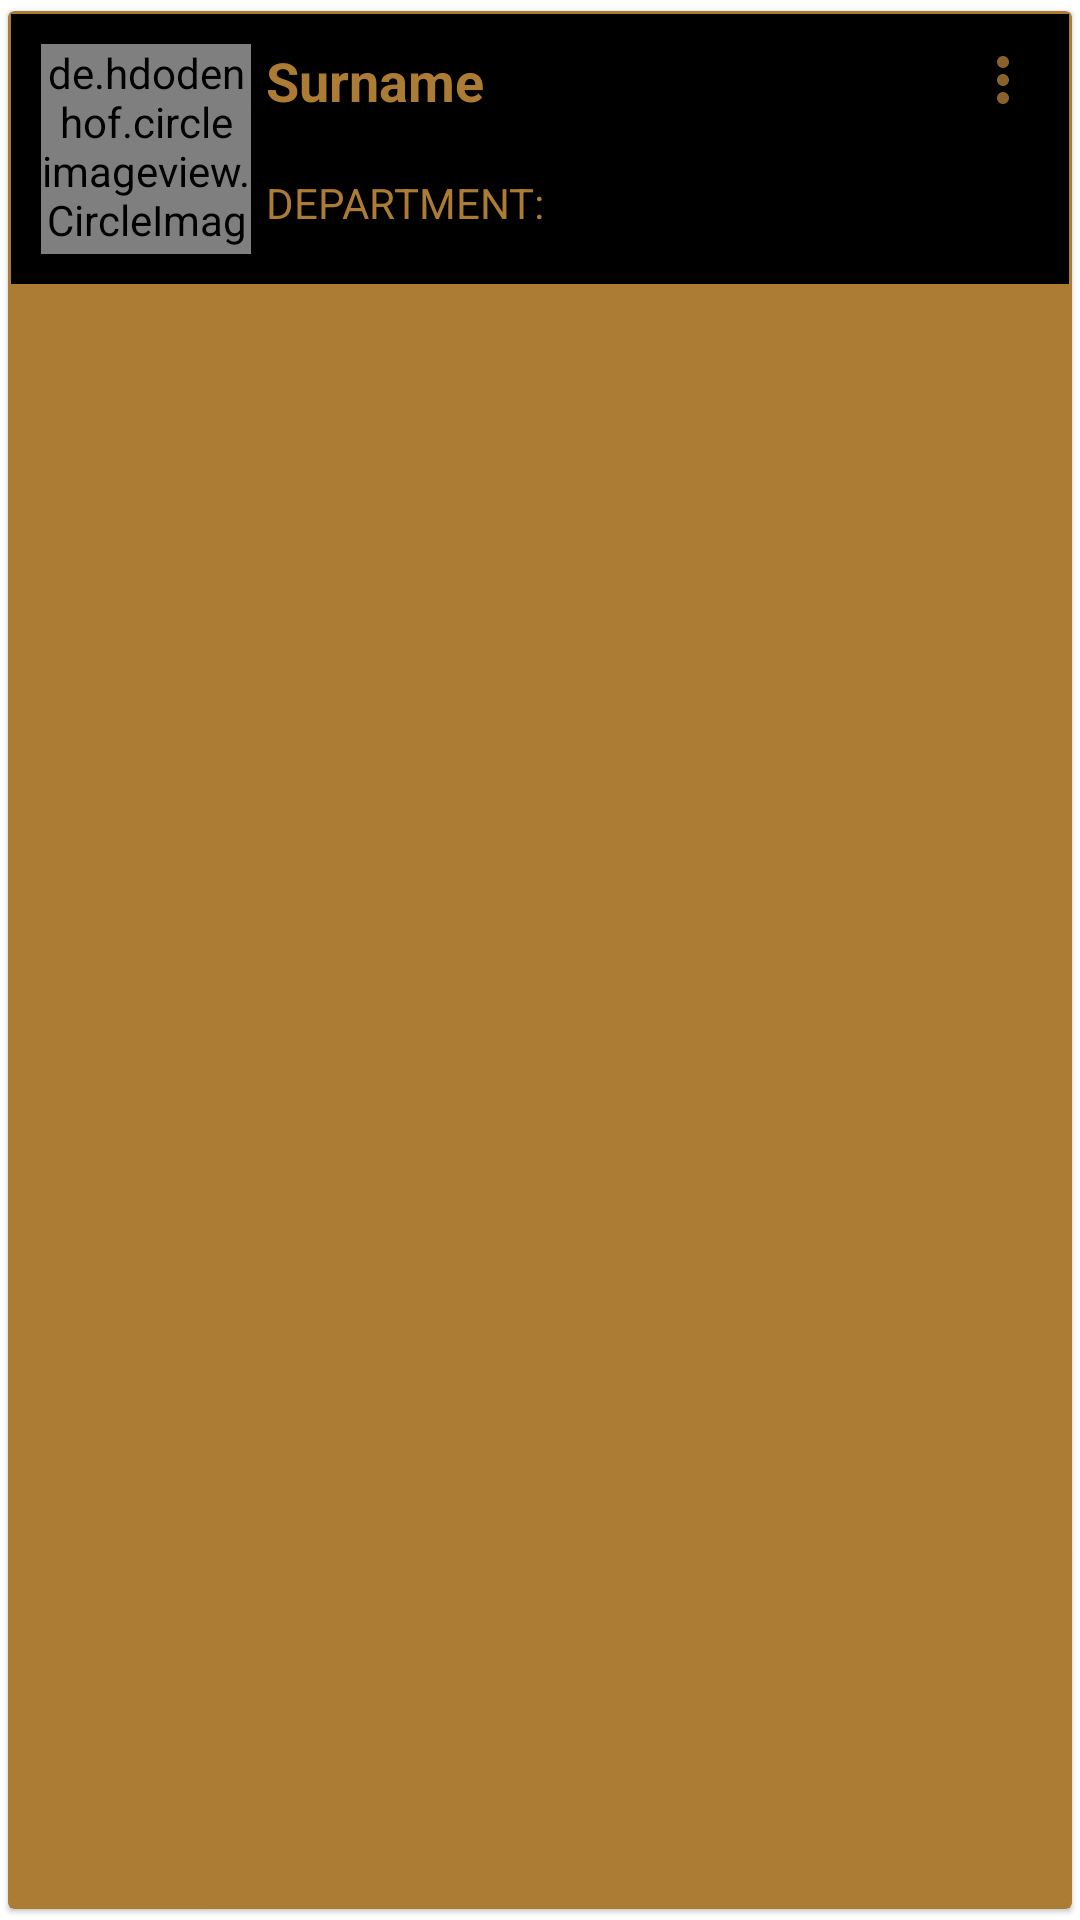

Screen size 1080px x 1920px. Icon name, then its center in pixels as (x=x, y=y):
more: (x=1003, y=80)
